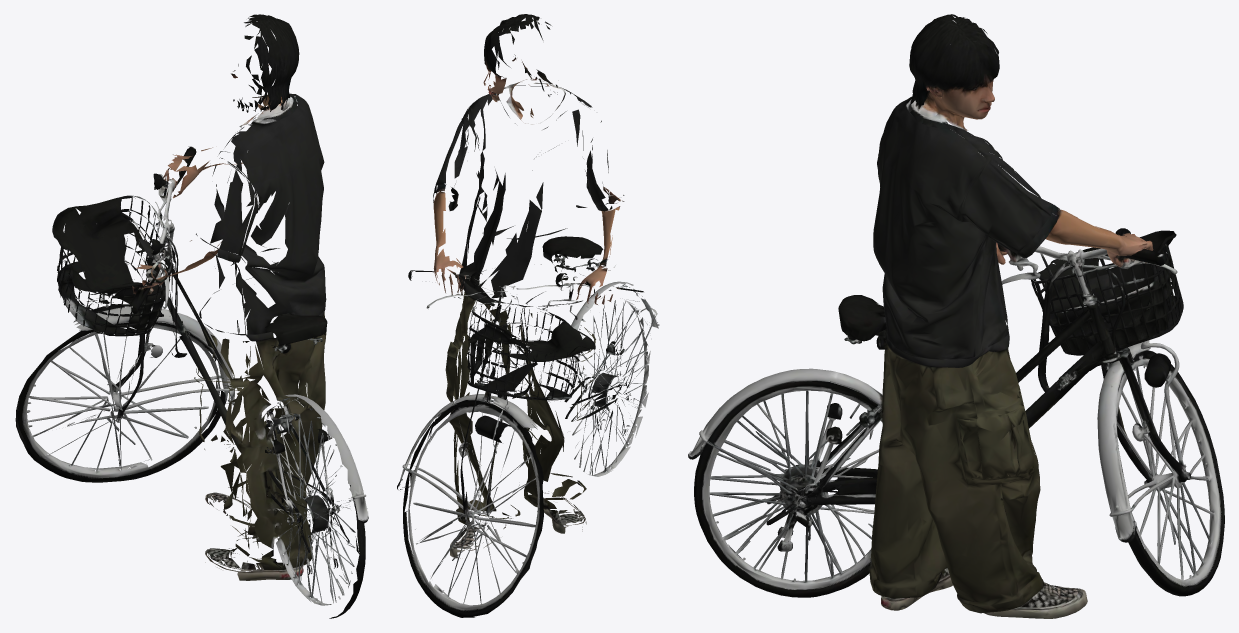
File: bicycle-rider-mobile.glb
3 views of the same model, side by side, from view 1: azimuth 30°, elevation 25°; view 2: azimuth 150°, elevation 25°; view 3: azimuth 270°, elevation 25° (orthographic). The views are drawn at different scales.
Parts seen in each view (by area): view 1: tripo_node_6c22886b-eff7-445f-9eee-04f22dd47206; view 2: tripo_node_6c22886b-eff7-445f-9eee-04f22dd47206; view 3: tripo_node_6c22886b-eff7-445f-9eee-04f22dd47206.
Part boxes in pixels (x1,y1,x2,y2): tripo_node_6c22886b-eff7-445f-9eee-04f22dd47206: [15, 14, 368, 618]; tripo_node_6c22886b-eff7-445f-9eee-04f22dd47206: [397, 14, 659, 617]; tripo_node_6c22886b-eff7-445f-9eee-04f22dd47206: [688, 14, 1224, 618].
Bounding box in the file's own units: 0.3695 × 0.9778 × 0.8093.
Materials: 1 (1 with a texture image).
